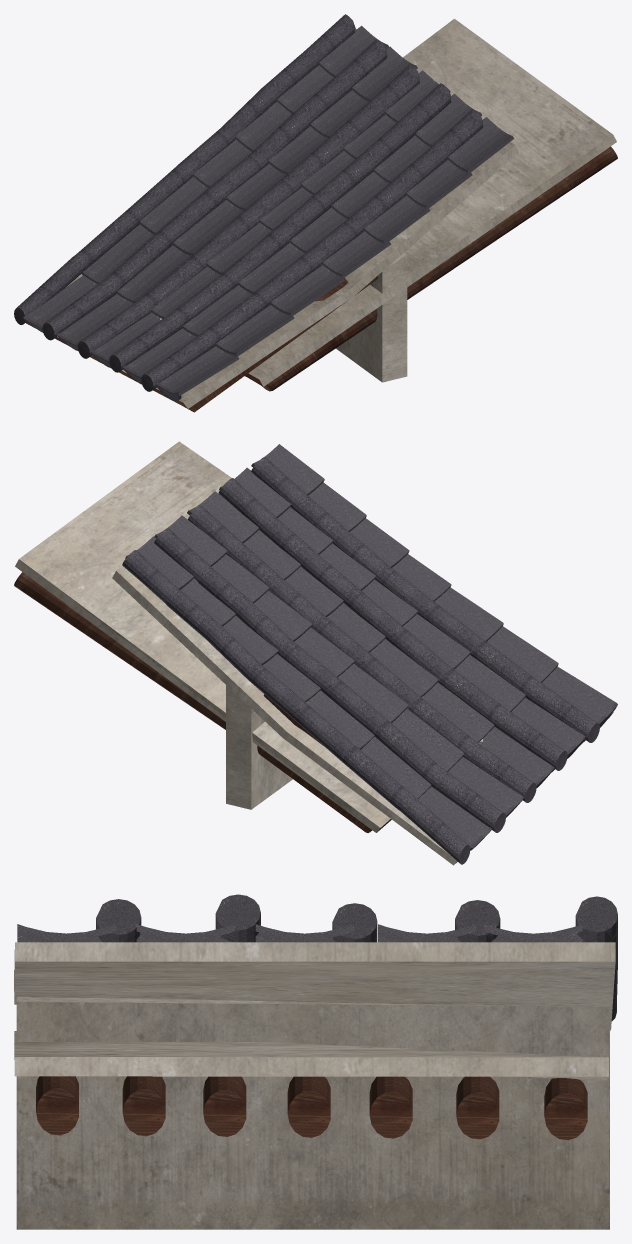
Rendered from SM_Roof_50.fbx.
The picture shows the model from 3 angles, top to bottom: view 1: azimuth 30°, elevation 25°; view 2: azimuth 150°, elevation 25°; view 3: azimuth 270°, elevation 25°; orthographic projection. The views are drawn at different scales.
Visible parts, largest first — view 1: SM_Roof_50; view 2: SM_Roof_50; view 3: SM_Roof_50.
Part boxes in pixels (x1,y1,x2,y2): SM_Roof_50: (14, 14, 617, 412); SM_Roof_50: (14, 441, 617, 865); SM_Roof_50: (14, 894, 617, 1229).
Size of the model in its own units: 594 by 365 by 295.
Materials: 4 (4 with a texture image).
